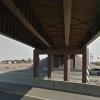Bridge: (2, 1, 97, 77)
